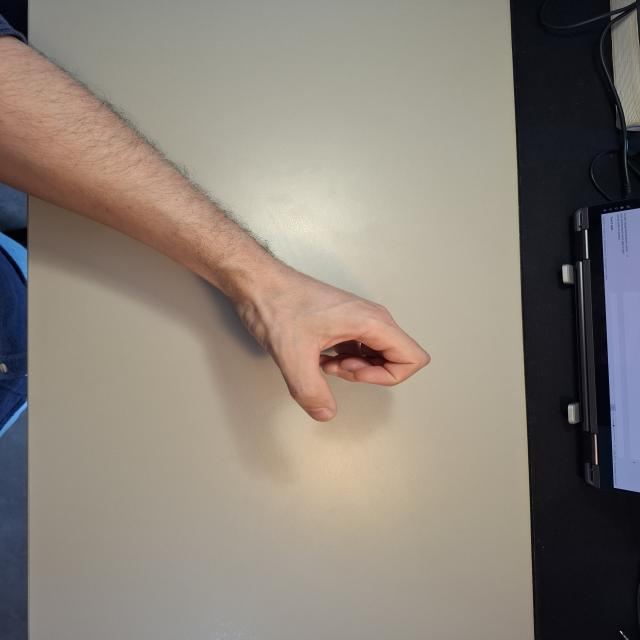glove_off: (220, 254, 434, 423)
